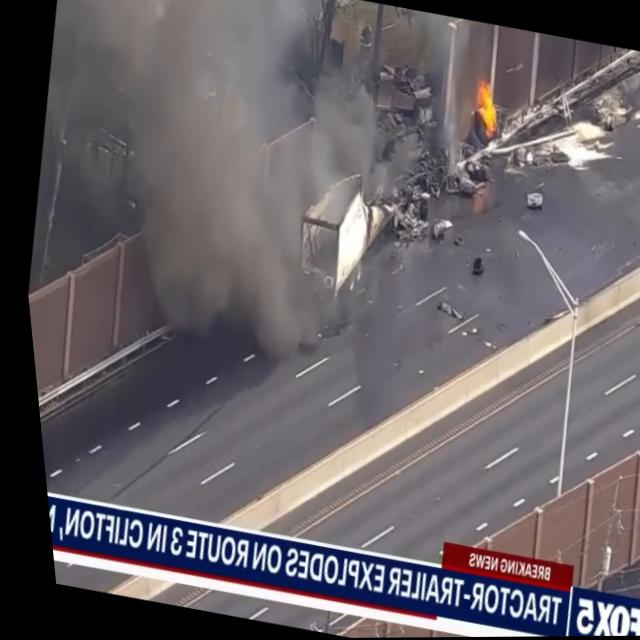Fire: (462, 74, 508, 142)
